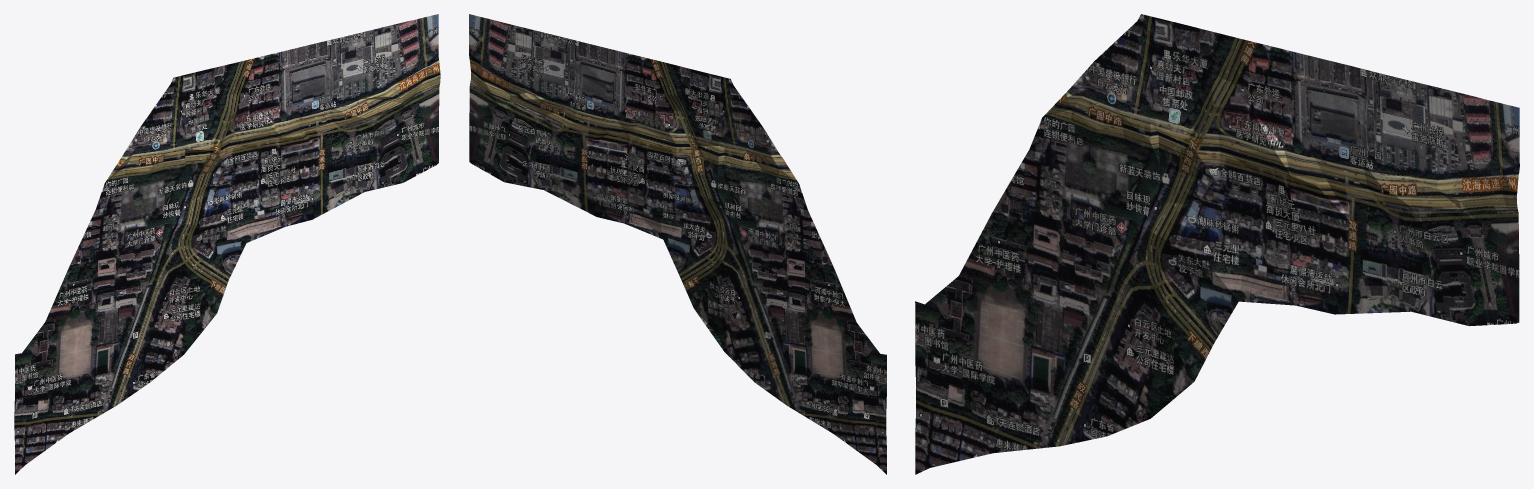
3 views of the same model, side by side, from view 1: azimuth 30°, elevation 25°; view 2: azimuth 150°, elevation 25°; view 3: azimuth 330°, elevation 25° (orthographic). The views are drawn at different scales.
Parts seen in each view (by area): view 1: 0_0_1_3_2; view 2: 0_0_1_3_2; view 3: 0_0_1_3_2.
Part boxes in pixels (bbox=[...]): 0_0_1_3_2: bbox=[14, 14, 440, 474]; 0_0_1_3_2: bbox=[469, 14, 886, 474]; 0_0_1_3_2: bbox=[915, 14, 1519, 474].
Size of the model in its own units: 972 by 791 by 24.
1 material, 1 textured.
